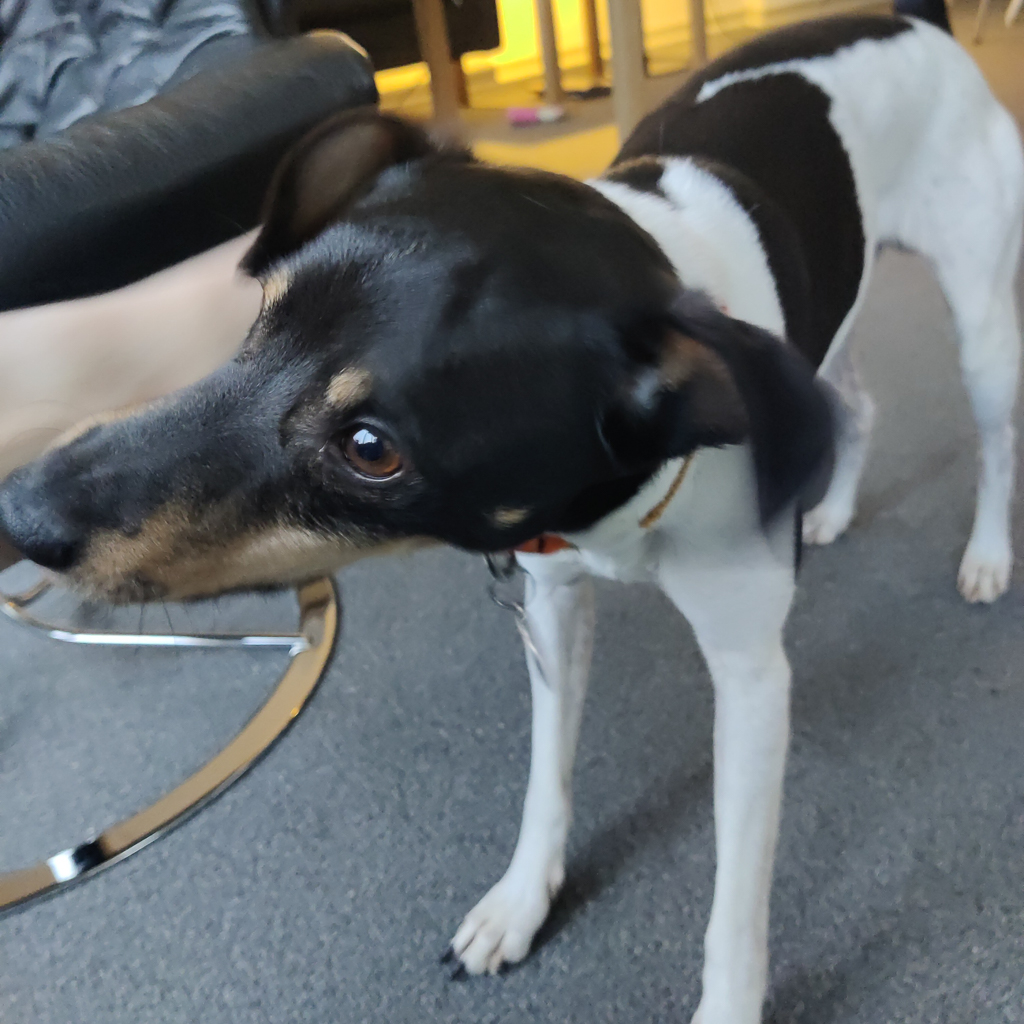Dog: (0, 0, 1024, 1024)
Humanoid: (0, 160, 359, 605)
